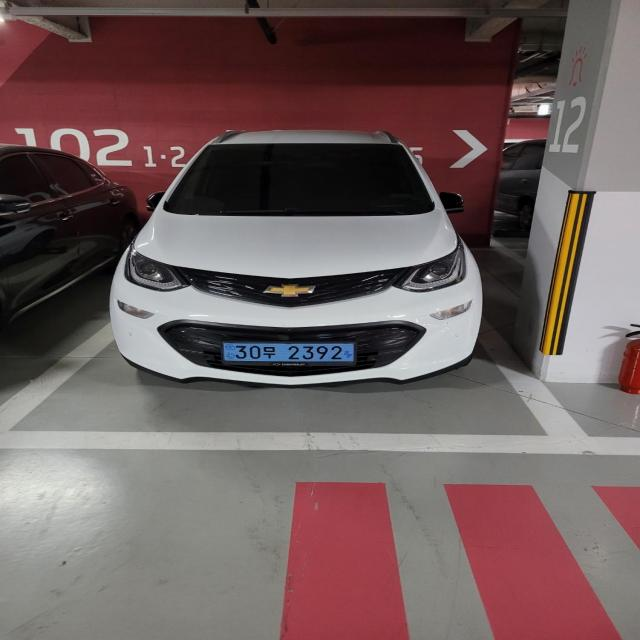EV_plate: (221, 338, 359, 373)
car: (109, 124, 486, 398)
